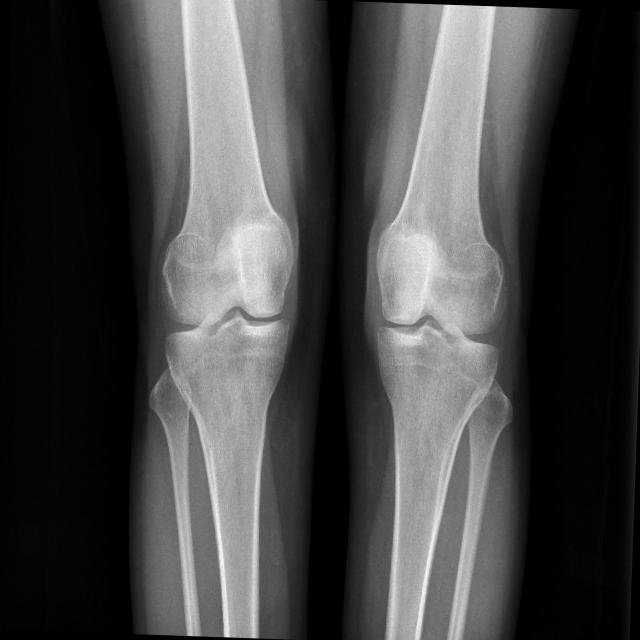Knee: (366, 246, 506, 404), (154, 245, 296, 394)
